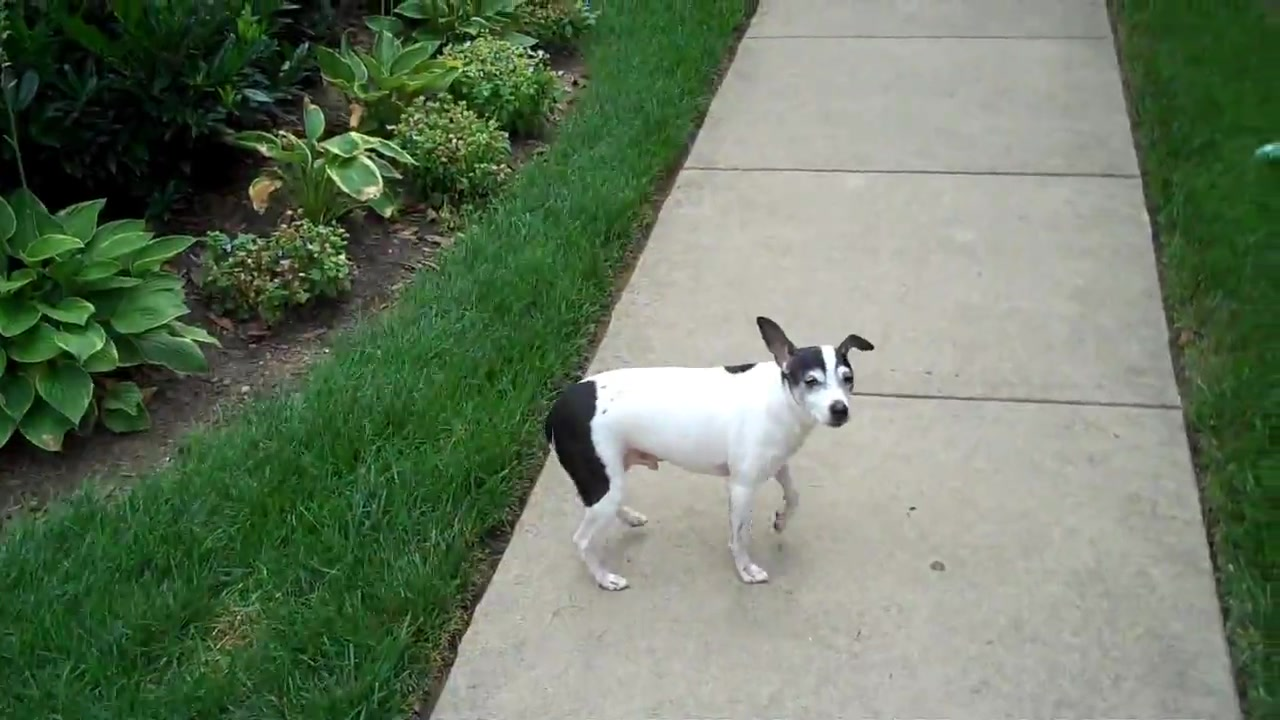dog: (541, 314, 875, 597)
